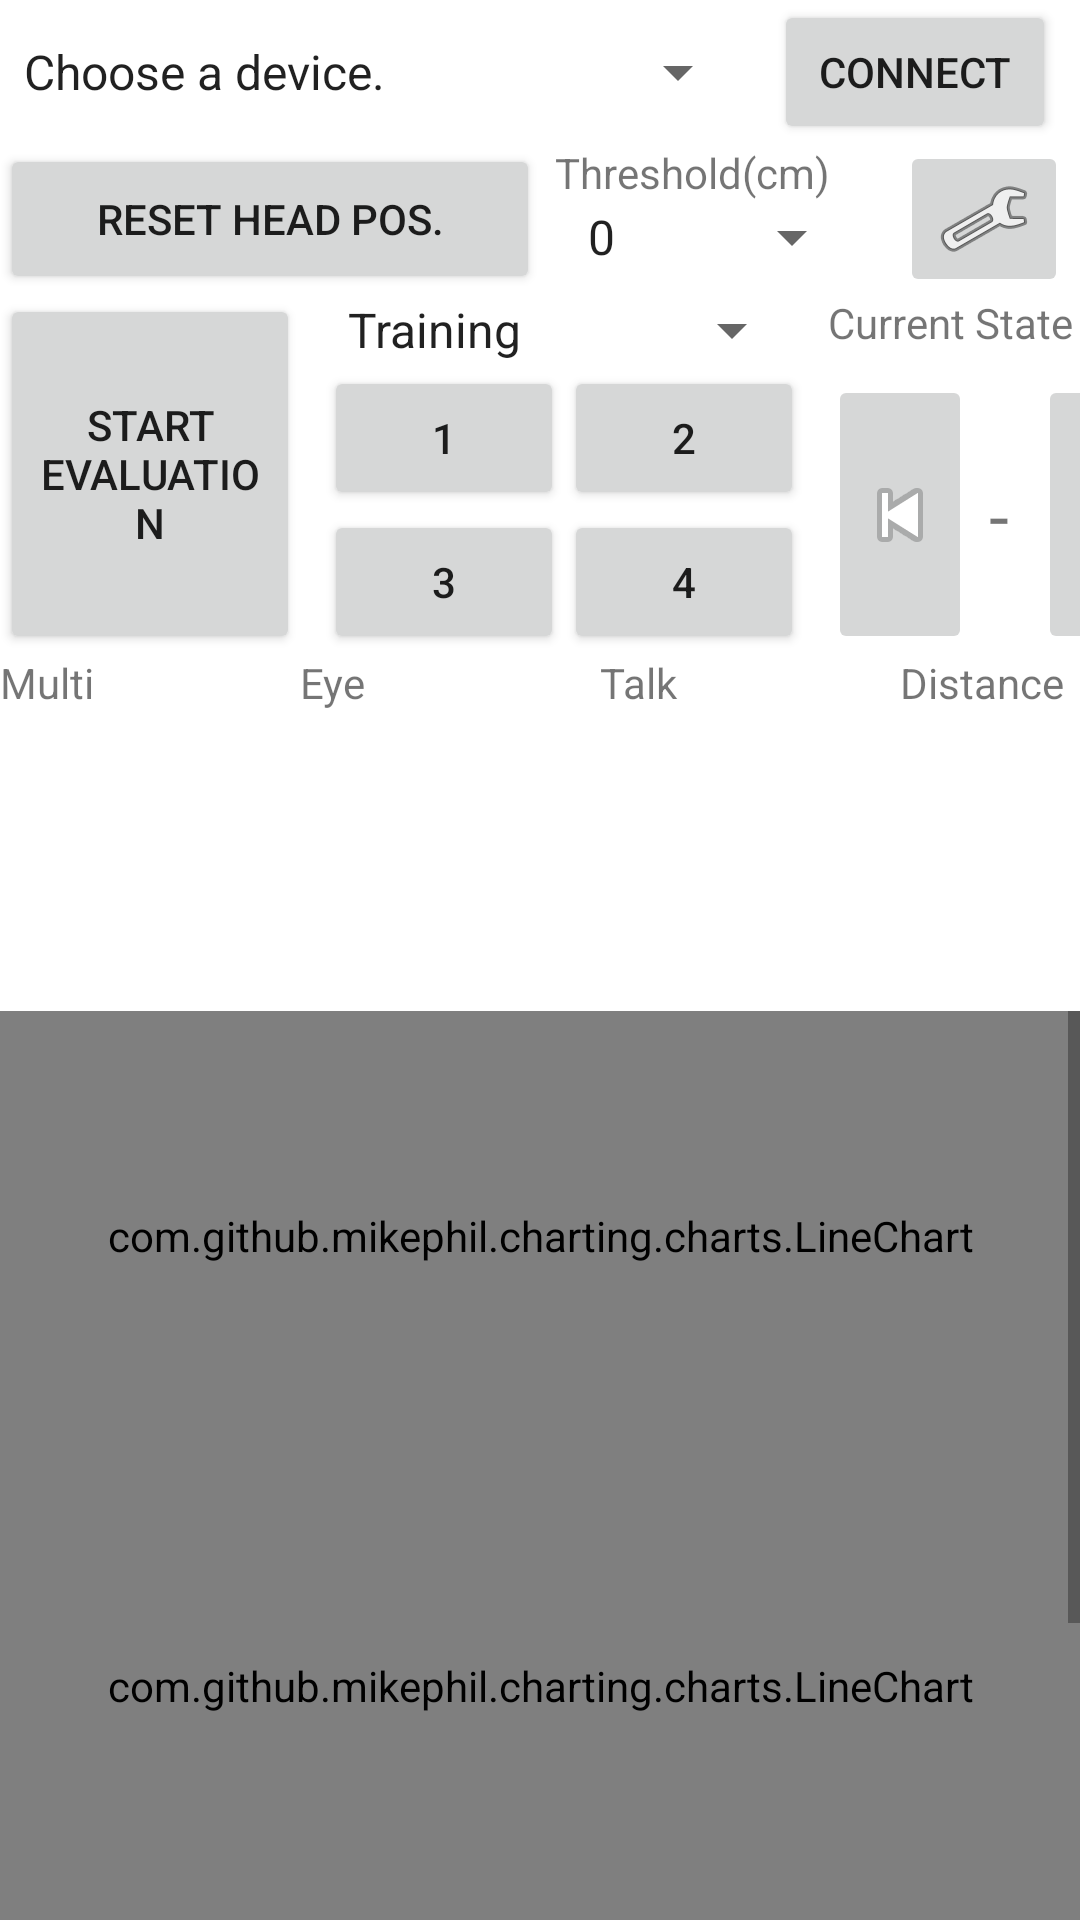

Named icons in this screenshot (1080x1920) and their bounding boxes, [x1, y1, x2, y2]:
BACK: [840, 393, 960, 636]
Configure: [912, 159, 1056, 279]
